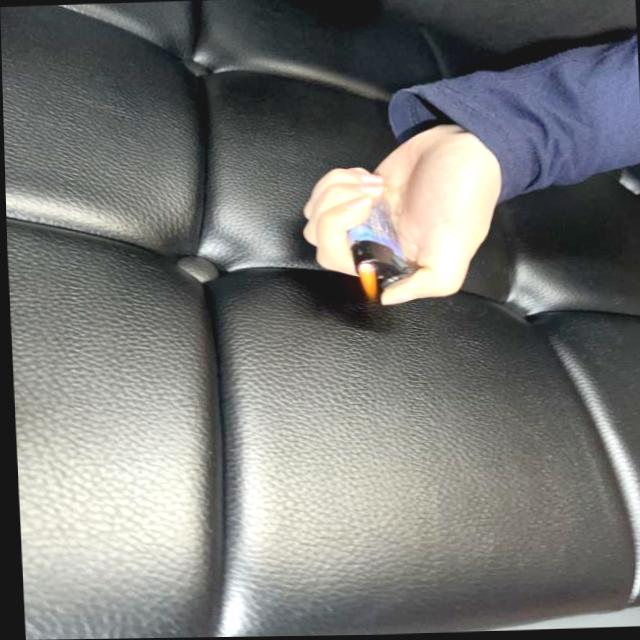helmet: (356, 262, 376, 300)
